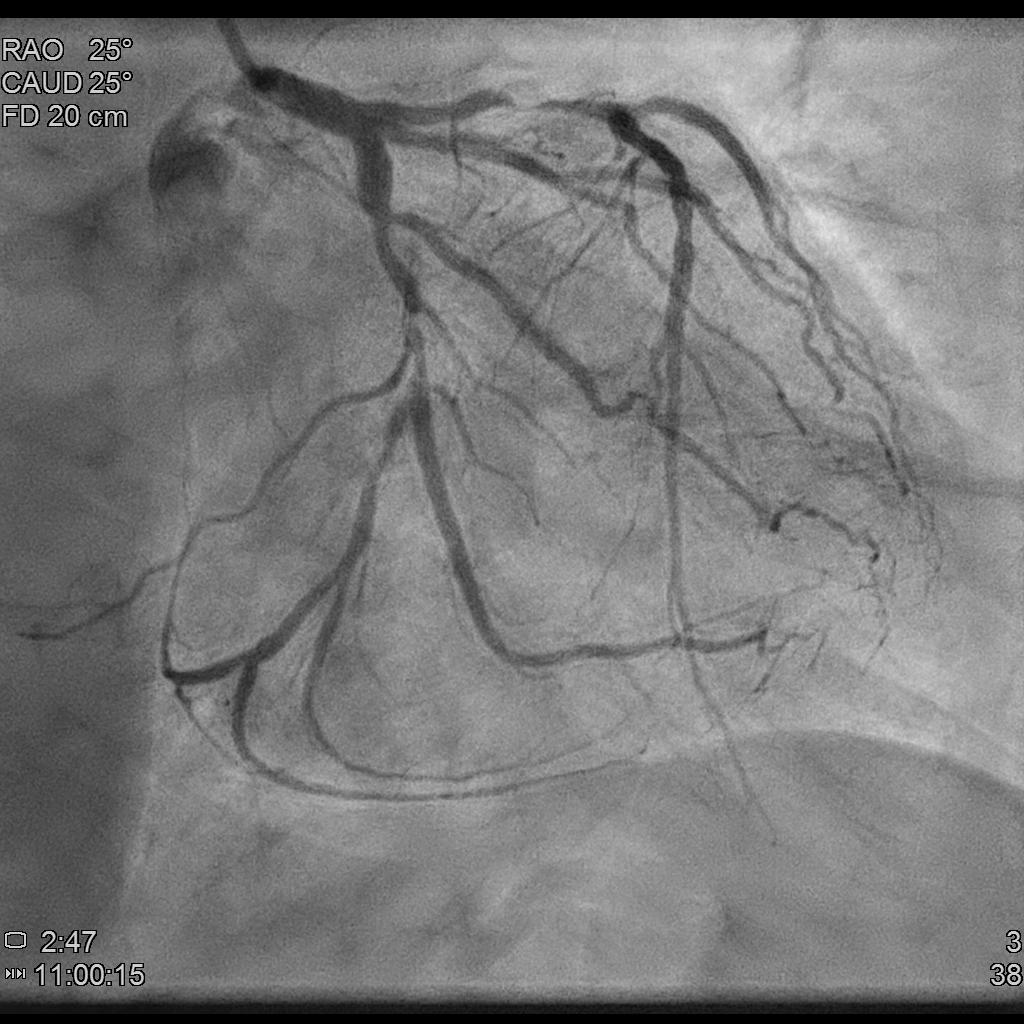block: (482, 66, 585, 135)
